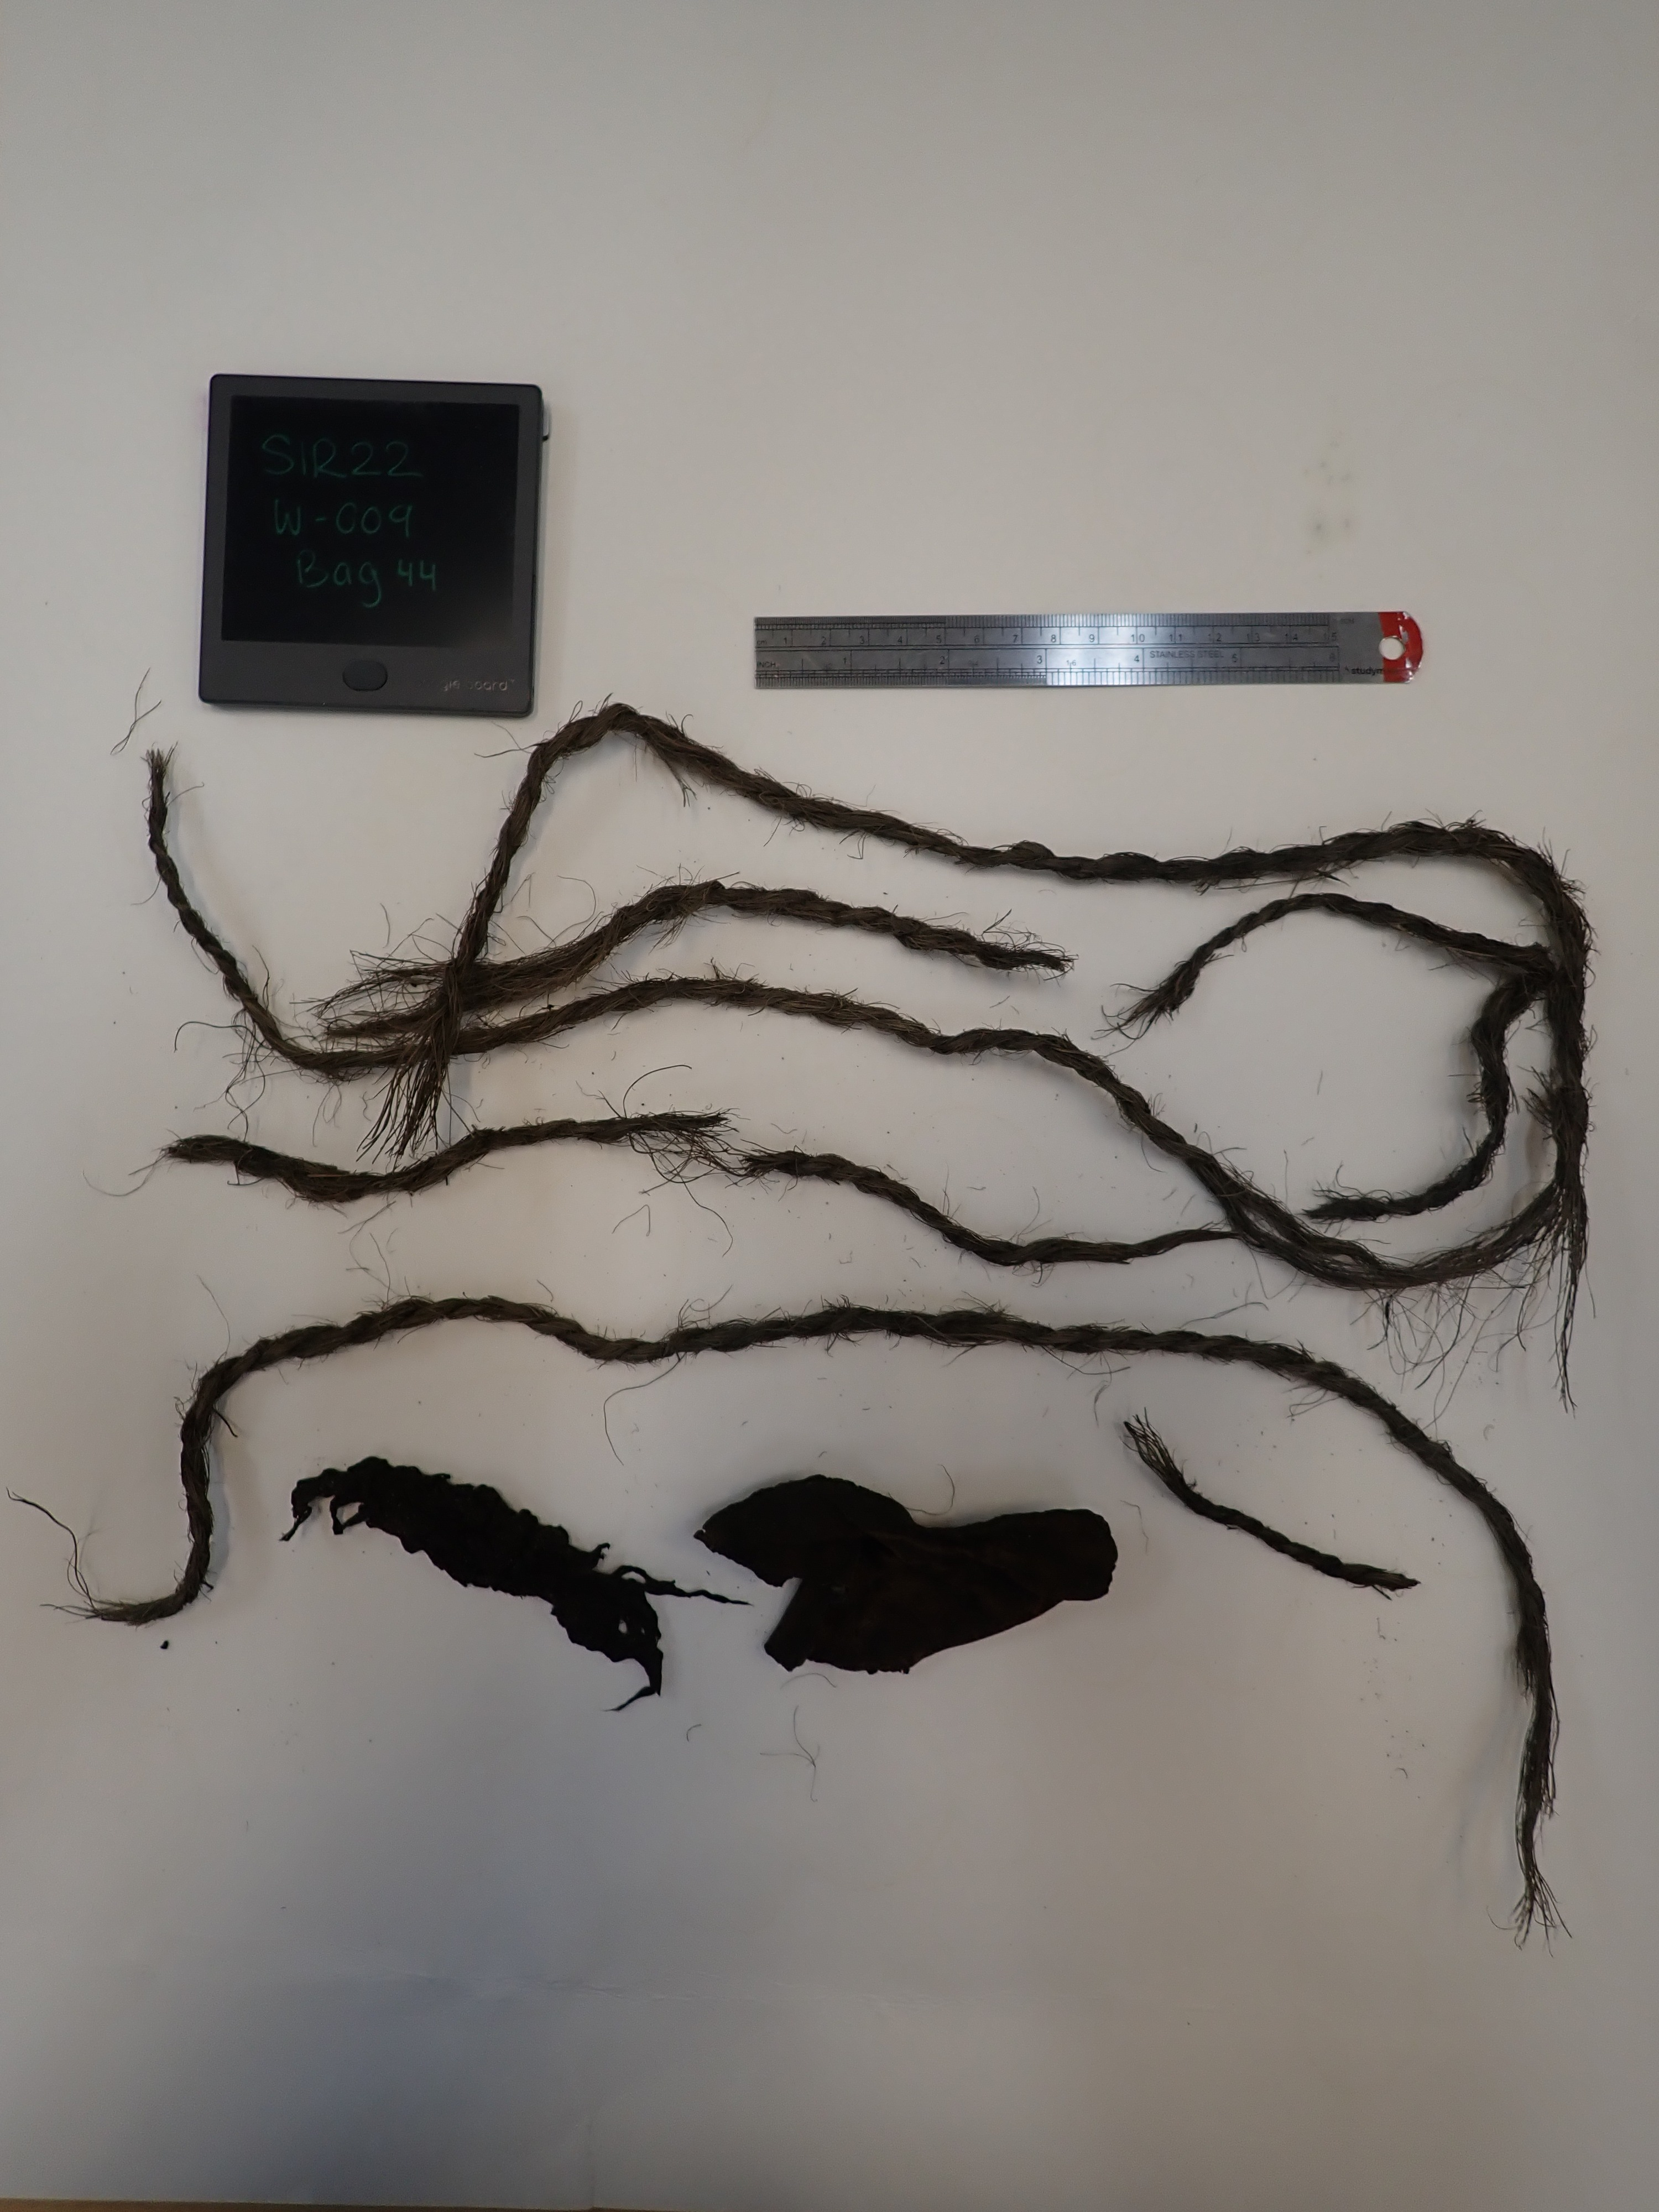Counted_Objects: (94, 744, 1079, 1263), (1098, 752, 1628, 1296), (275, 1442, 694, 1766), (697, 1465, 1126, 1712), (282, 1277, 1079, 1406), (5, 1324, 254, 1684), (1443, 1395, 1600, 1942), (1119, 1414, 1384, 1651)
Not_Counted_Objects: (202, 333, 559, 712), (742, 599, 1427, 695)
